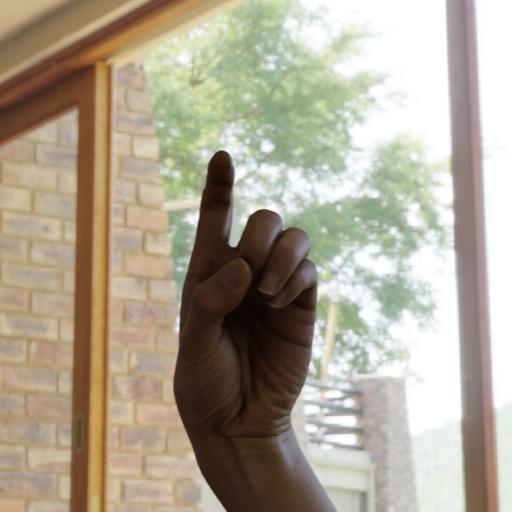X: (168, 144, 325, 448)
